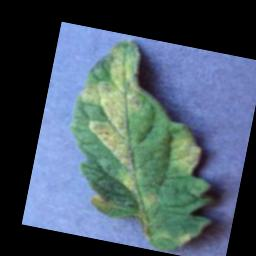Leaf_Mold: (61, 31, 169, 195), (166, 128, 207, 173), (88, 192, 116, 210), (139, 191, 159, 209)
